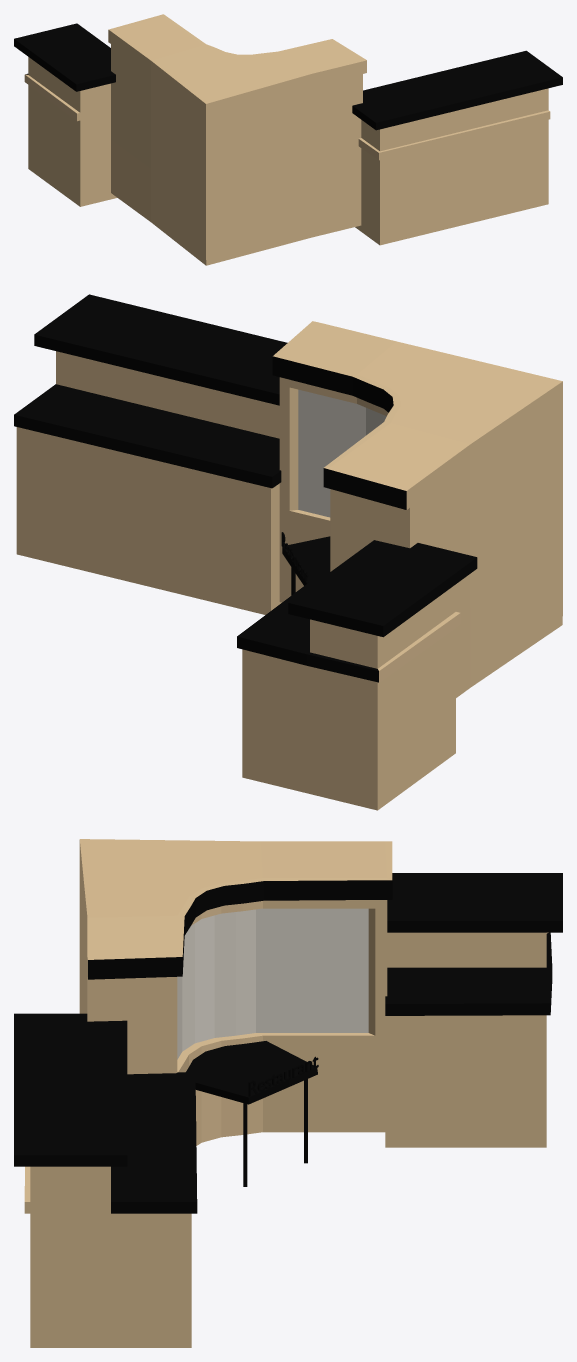
The model's file is obj_resturant_.fbx.
The picture shows the model from 3 angles, top to bottom: view 1: azimuth 30°, elevation 25°; view 2: azimuth 150°, elevation 25°; view 3: azimuth 270°, elevation 25°; orthographic projection. The views are drawn at different scales.
Visible parts, largest first — view 1: Cube.005; view 2: Cube.005; view 3: Cube.005.
Part boxes in pixels (x1=…): Cube.005: x1=14, y1=14, x2=562, y2=265; Cube.005: x1=14, y1=294, x2=562, y2=810; Cube.005: x1=14, y1=839, x2=562, y2=1347.
Size of the model in its own units: 1513 by 661 by 1245.
